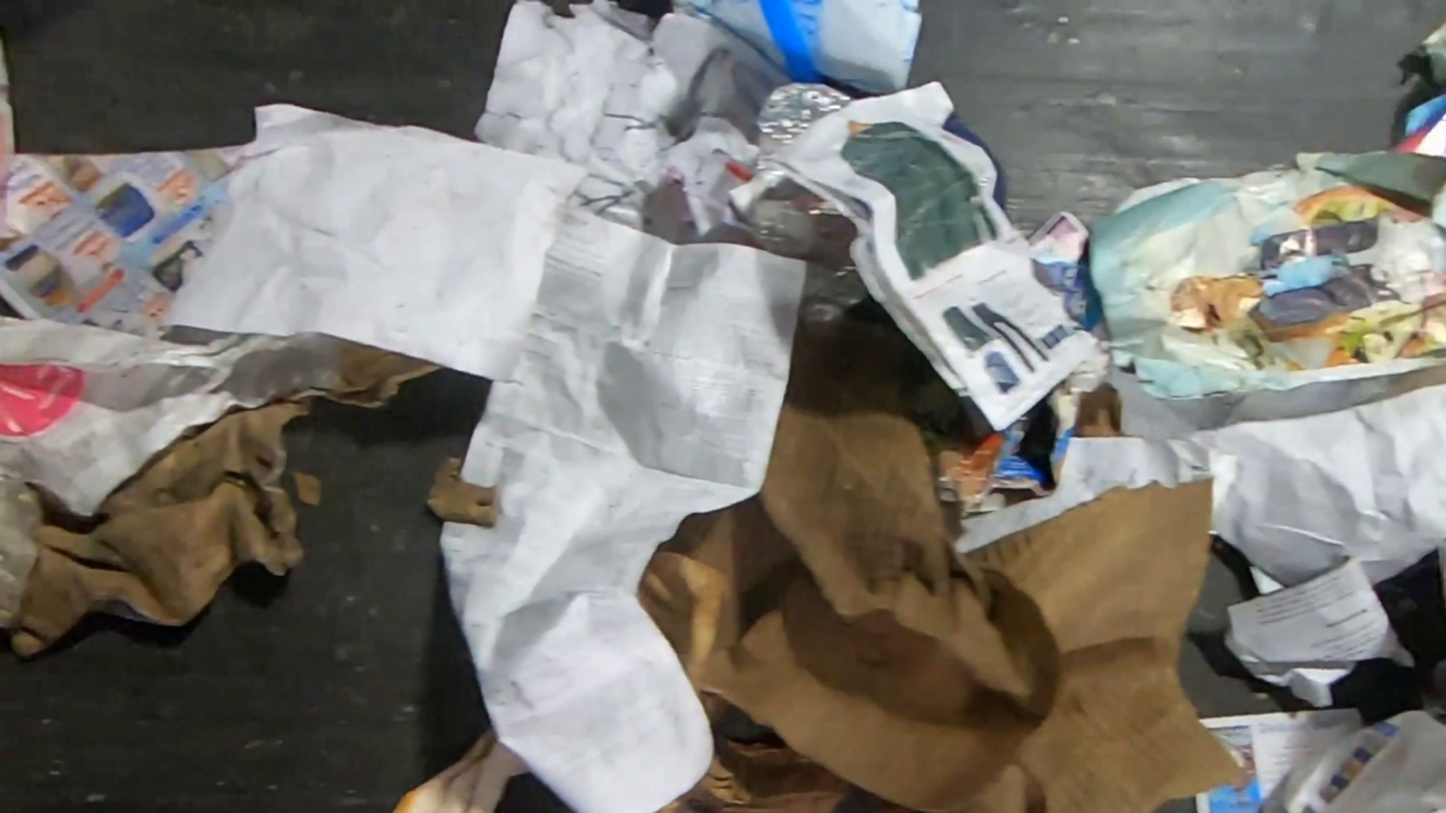cardboard: (0, 313, 447, 663)
plastic: (747, 80, 873, 325)
